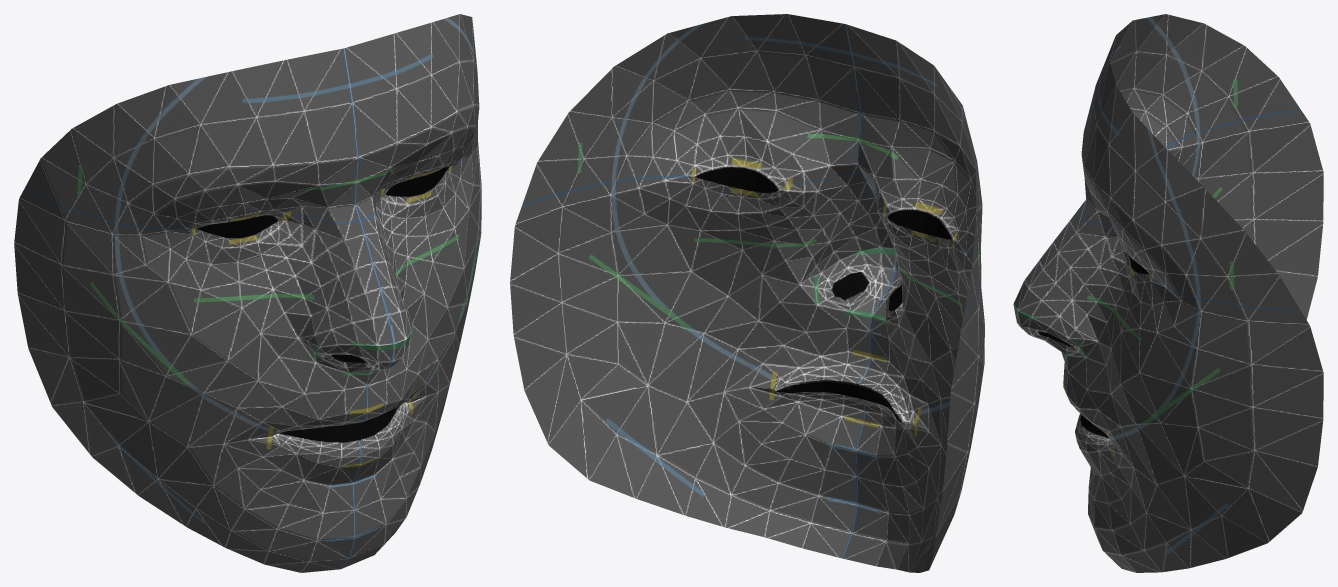
Rendered from canonical_face_with_texture.glb.
The picture shows the model from 3 angles, left to right: view 1: azimuth 30°, elevation 25°; view 2: azimuth 150°, elevation 25°; view 3: azimuth 270°, elevation 25°; orthographic projection. The views are drawn at different scales.
Visible parts, largest first — view 1: canonical_face_model; view 2: canonical_face_model; view 3: canonical_face_model.
Boxes of the visible parts, <box> form: canonical_face_model: <box>14,14,481,572</box>; canonical_face_model: <box>510,14,984,572</box>; canonical_face_model: <box>1013,14,1323,572</box>.
Bounding box in the file's own units: 15.49 × 17.67 × 10.02.
Materials: 1 (1 with a texture image).
